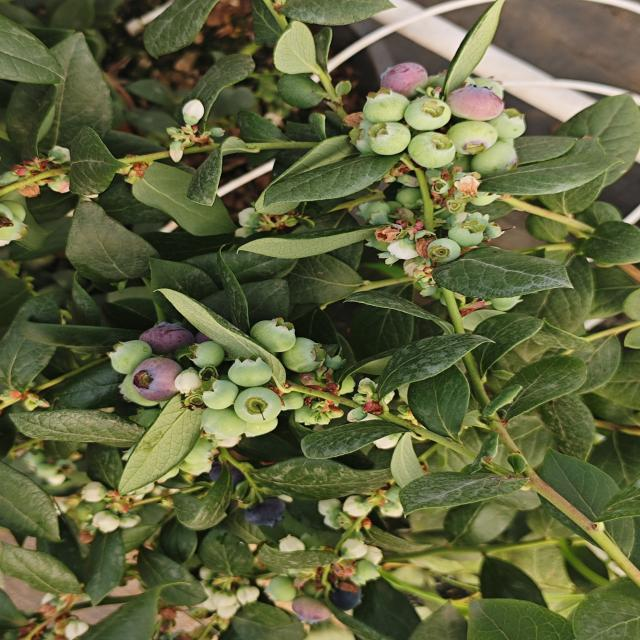ripe: (305, 566, 365, 612), (137, 320, 196, 356), (198, 457, 250, 490), (240, 495, 289, 530)
